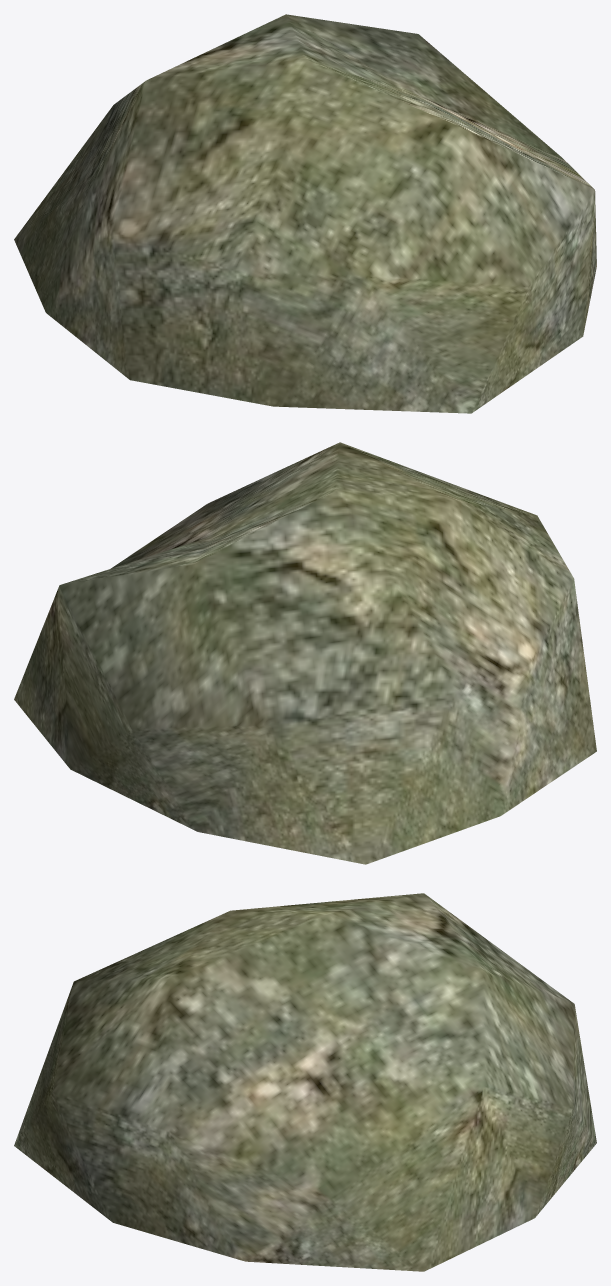
Rendered from Rock.gltf.
3 renders of one model, top to bottom at view 1: azimuth 30°, elevation 25°; view 2: azimuth 150°, elevation 25°; view 3: azimuth 270°, elevation 25°, orthographic. The views are drawn at different scales.
Visible parts, largest first — view 1: Rock; view 2: Rock; view 3: Rock.
Part boxes in pixels (bbox=[...]): Rock: bbox=[14, 14, 596, 413]; Rock: bbox=[14, 442, 596, 864]; Rock: bbox=[14, 893, 596, 1271].
Size of the model in its own units: 38.06 by 17.63 by 40.65.
1 material, 1 textured.
